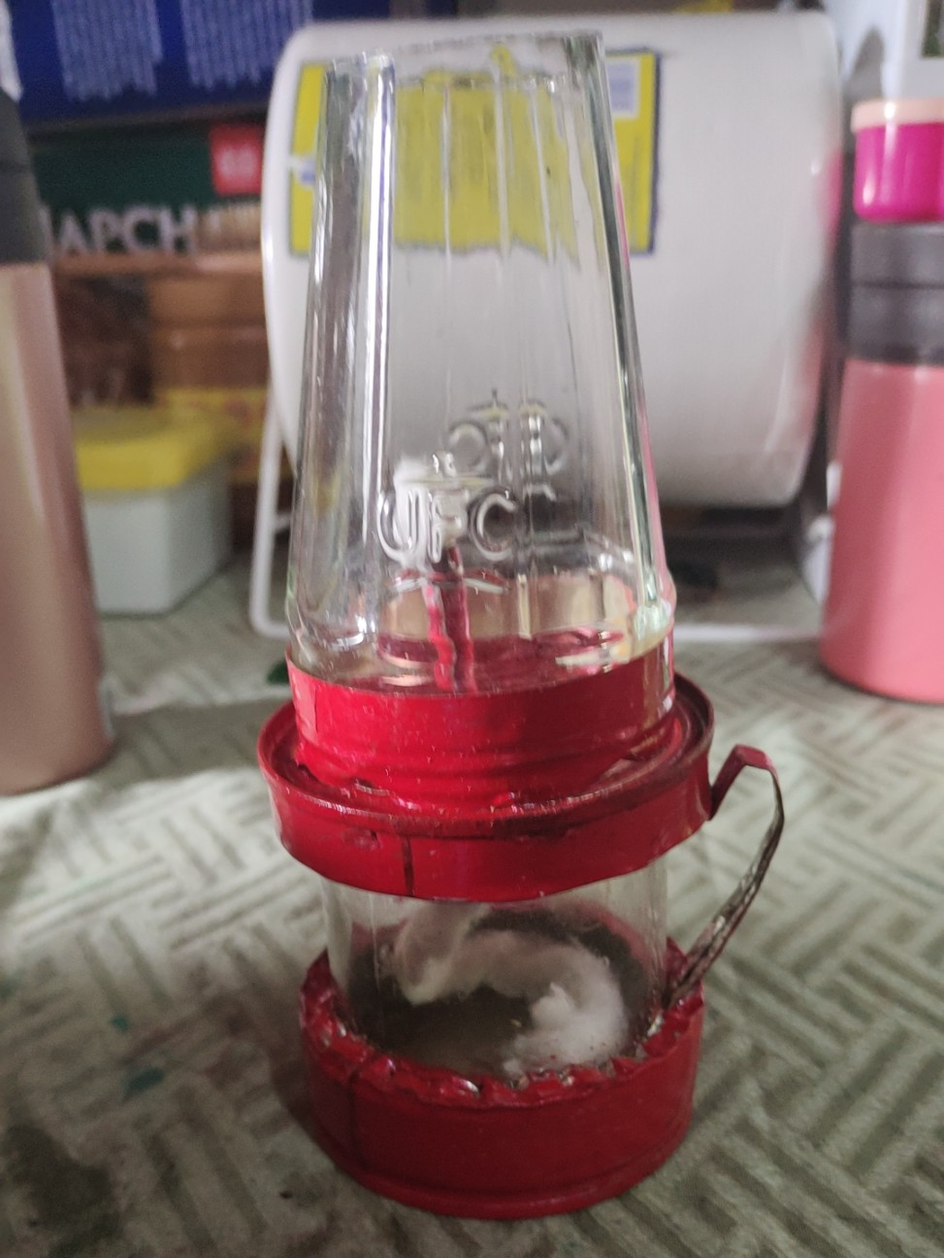Open-Flame-Hazard: (233, 28, 808, 1231)
